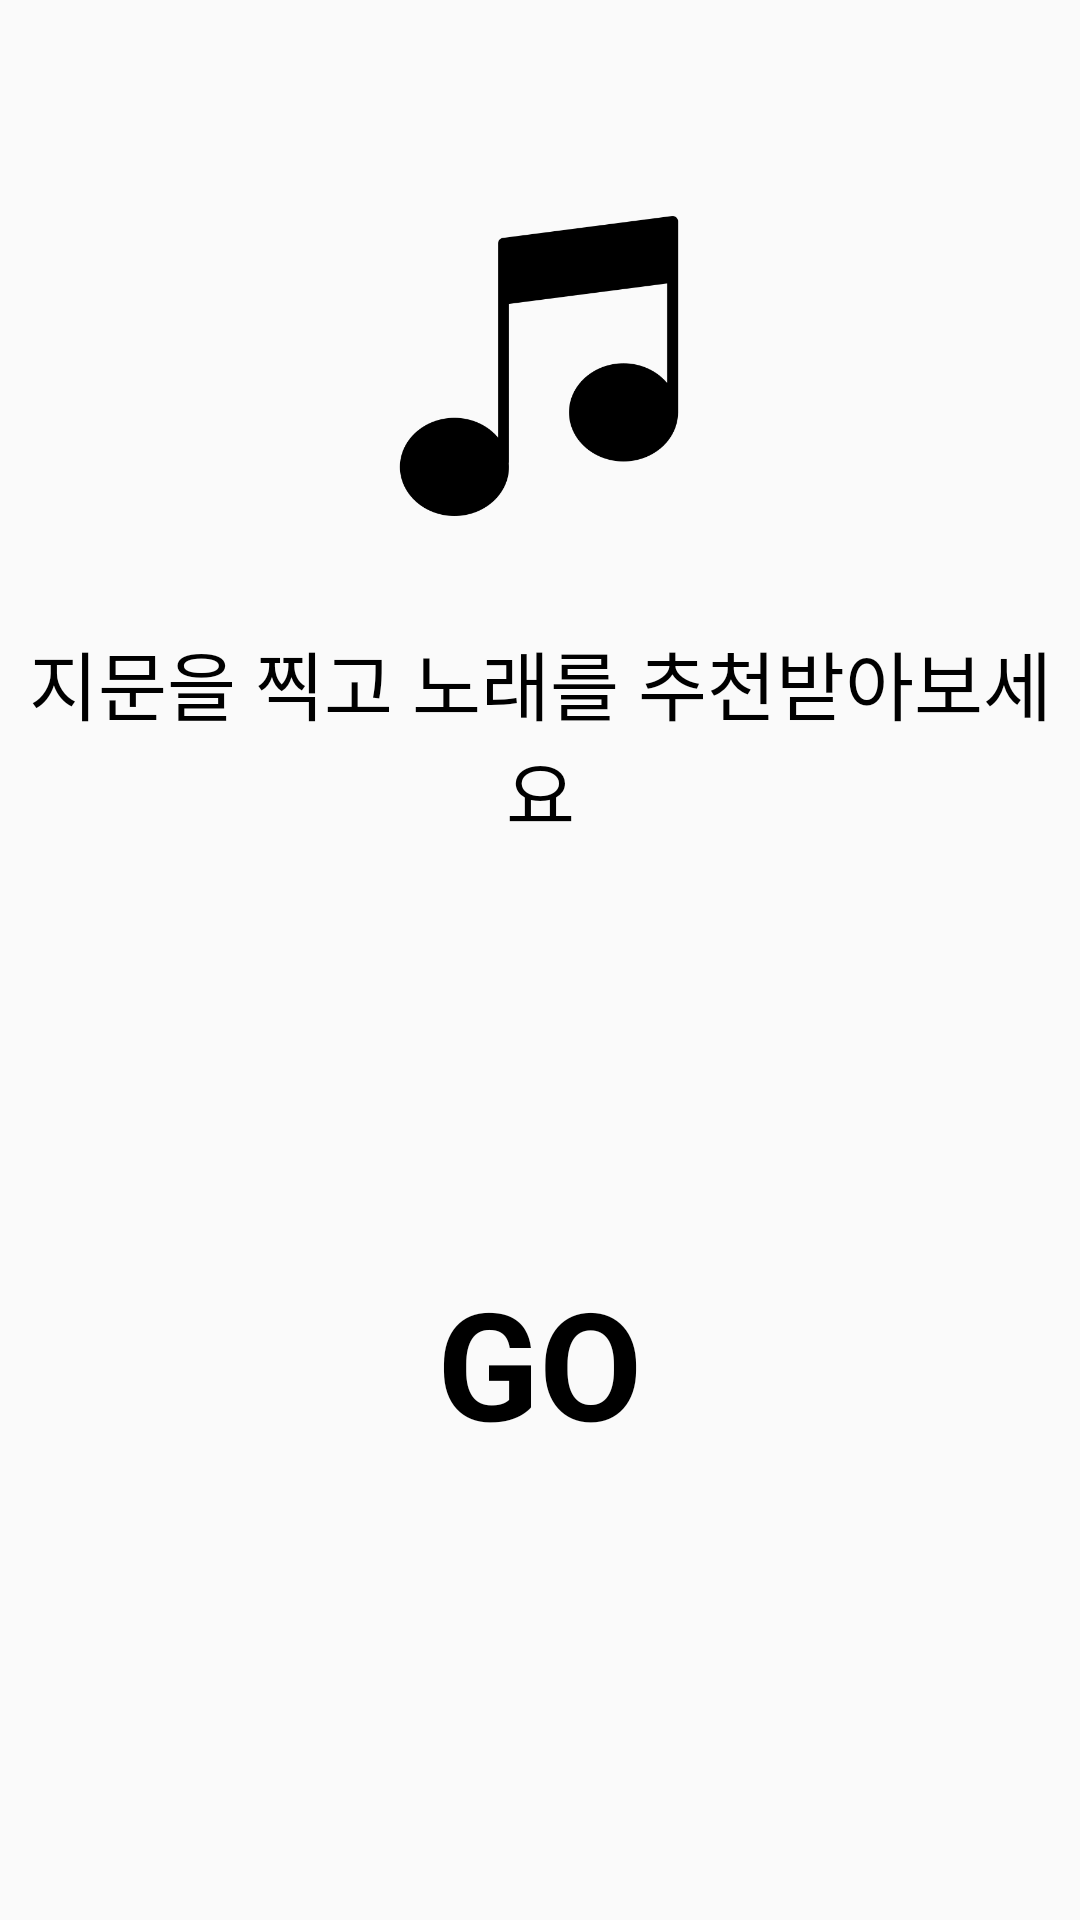

Icon click points for this 1080px×1920px phone screenshot, format [x,y]:
music player: [539,366]
